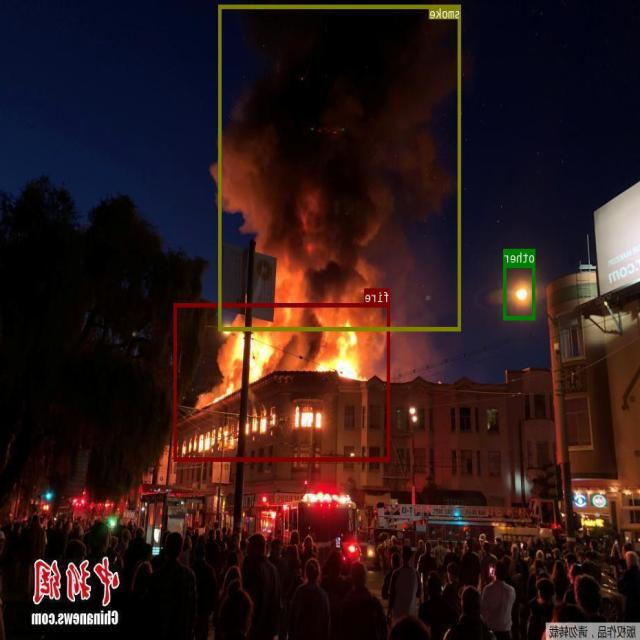fire: (174, 302, 391, 461)
other: (504, 263, 536, 319)
smoke: (219, 5, 462, 330)
